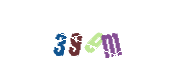3: (20, 0, 100, 80)
9: (44, 0, 124, 80)
E: (53, 0, 133, 80)
M: (56, 0, 136, 80)
